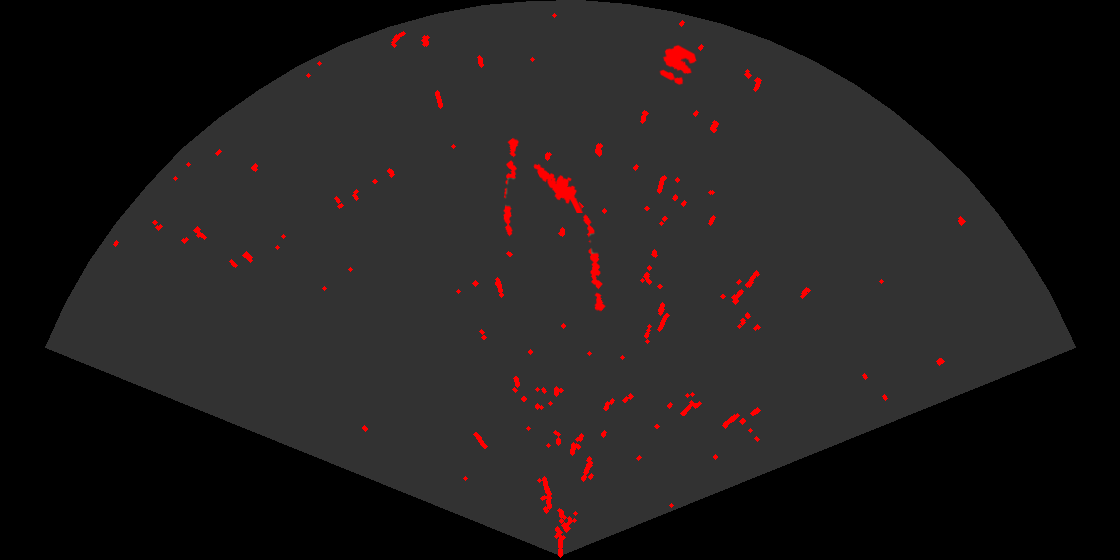ball: (658, 43, 698, 87)
chain: (582, 213, 607, 313), (502, 136, 520, 237)
frogman: (532, 162, 585, 213)
